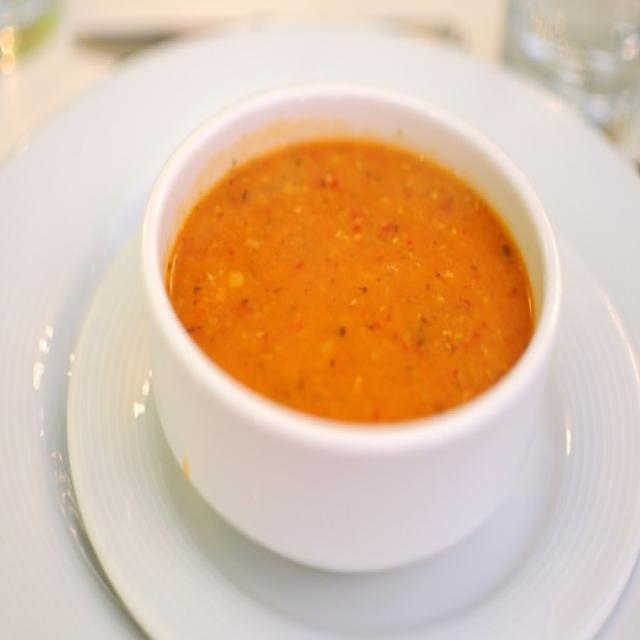corba: (139, 81, 562, 574)
